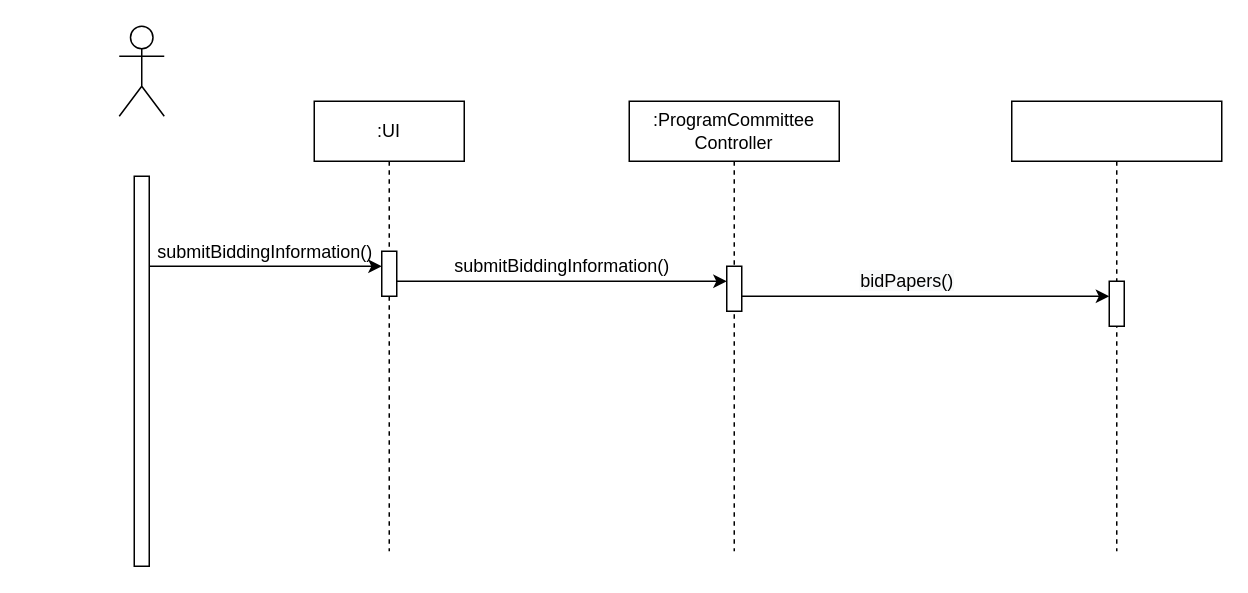
Image size: 1248x593. Some labels were removed from this diagram. Here are the shapes that lost their labels. From the top down, the centre of each, then its label:
At point (141, 70): ":Program Commitee Member".
At point (1116, 325): ":BidPaperReposiotory".
